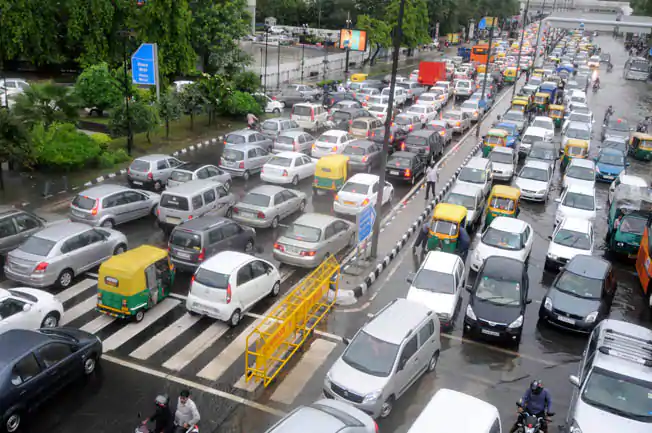car: (319, 297, 445, 418), (461, 251, 530, 348), (408, 243, 468, 354), (542, 252, 614, 342), (545, 215, 596, 277), (420, 197, 467, 259), (510, 150, 554, 203), (553, 177, 599, 226), (480, 139, 520, 189), (459, 152, 493, 199), (591, 143, 627, 185), (560, 134, 598, 172), (516, 122, 547, 158)
